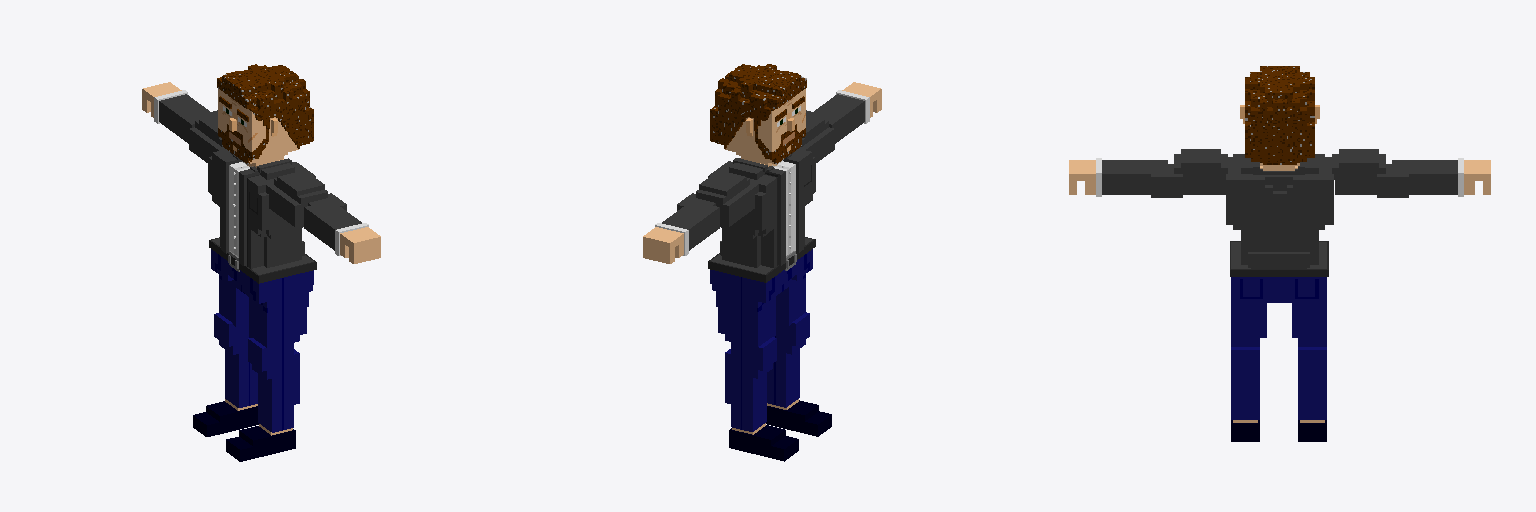
3 views of the same model, side by side, from view 1: azimuth 30°, elevation 25°; view 2: azimuth 150°, elevation 25°; view 3: azimuth 270°, elevation 25° (orthographic).
Parts seen in each view (by area): view 1: object 1; view 2: object 1; view 3: object 1.
Part boxes in pixels (x1,y1,x2,y2): object 1: (142, 64, 380, 461); object 1: (643, 64, 881, 461); object 1: (1069, 66, 1490, 441).
Bounding box in the file's own units: 5.5 × 23.5 × 25.2.
Materials: 1 (1 with a texture image).